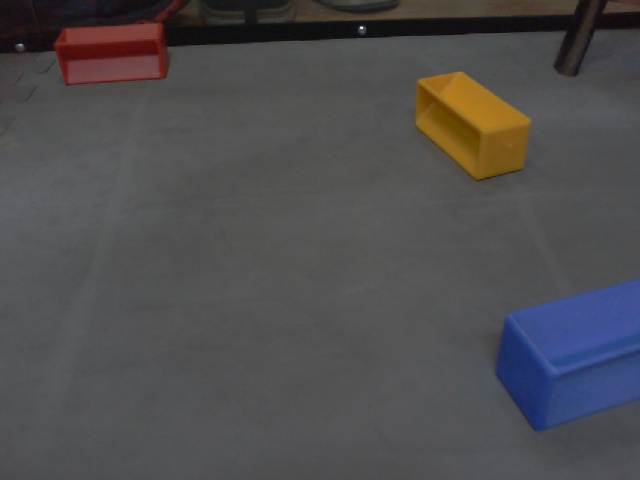BlueSample: (493, 277, 640, 433)
RedSample: (53, 21, 171, 86)
YellowSample: (413, 68, 533, 185)
